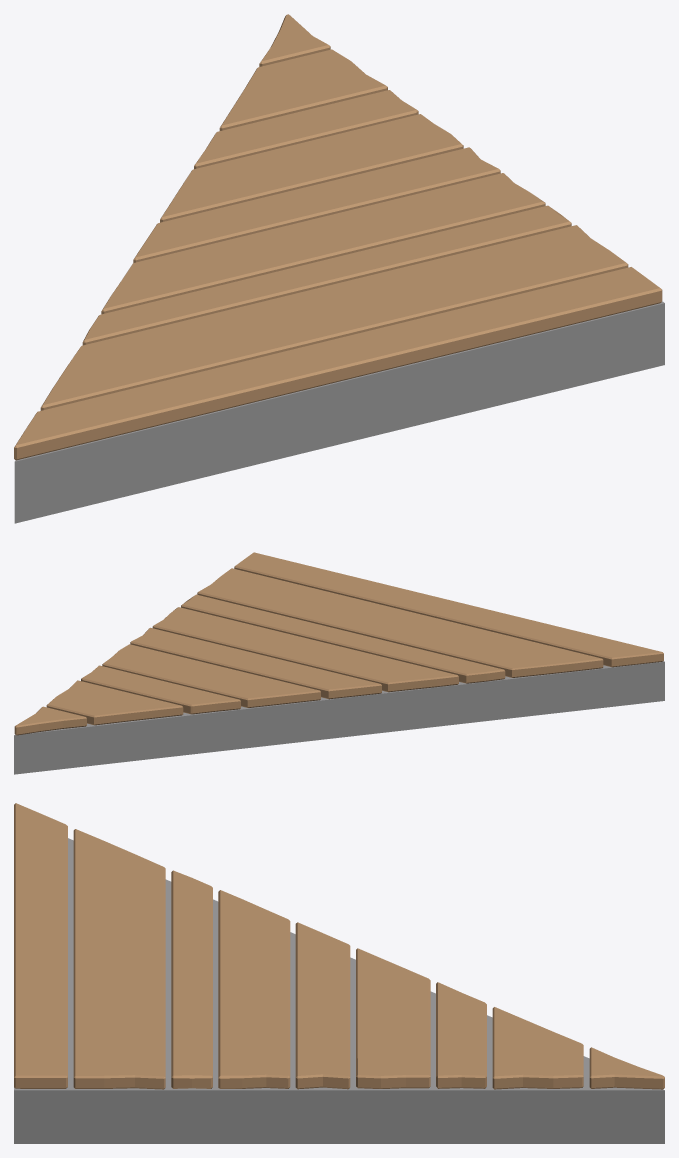
File: foundation-c.glb
The picture shows the model from 3 angles, top to bottom: view 1: azimuth 30°, elevation 25°; view 2: azimuth 150°, elevation 25°; view 3: azimuth 270°, elevation 25°; orthographic projection. The views are drawn at different scales.
Parts seen in each view (by area): view 1: Foundation C (×2); view 2: Foundation C (×2); view 3: Foundation C (×2).
Boxes of the visible parts, x1=… form: Foundation C (×2): x1=14, y1=14, x2=664, y2=523; Foundation C (×2): x1=14, y1=552, x2=664, y2=774; Foundation C (×2): x1=14, y1=803, x2=664, y2=1143.
Bounding box in the file's own units: 3.3 × 0.3738 × 3.3.
